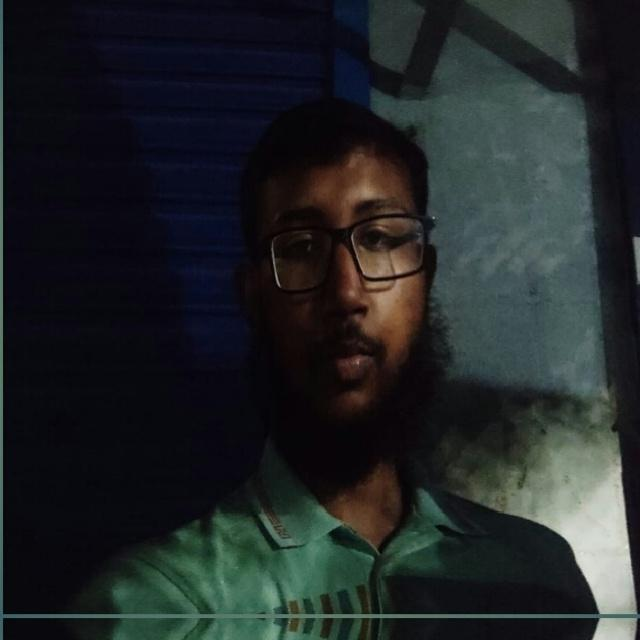Natural: (217, 102, 507, 510)
